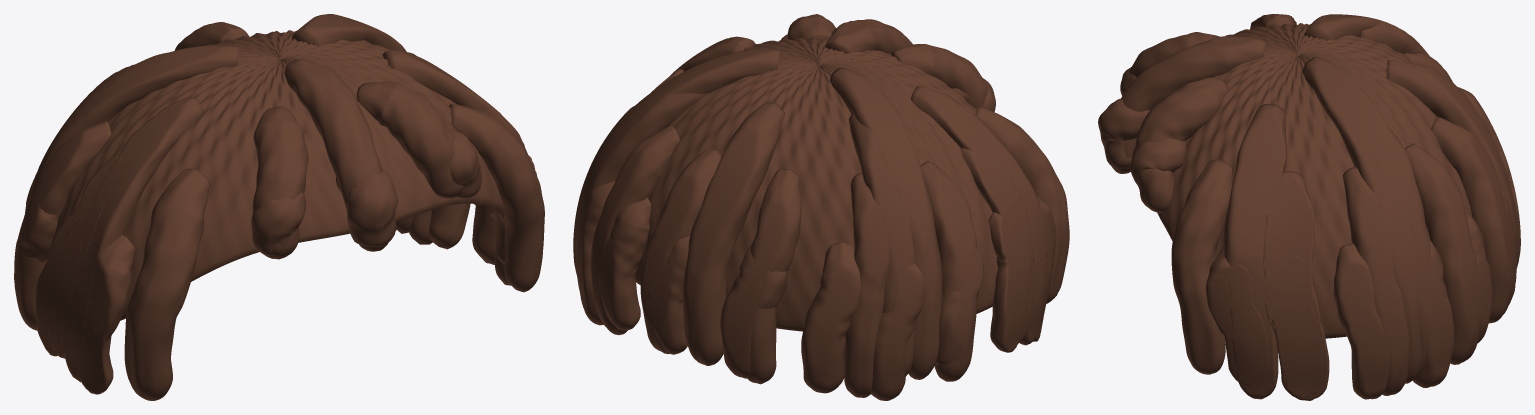
The model's file is Masculine-locs-pashmina260-hair.glb.
The picture shows the model from 3 angles, left to right: view 1: azimuth 30°, elevation 25°; view 2: azimuth 150°, elevation 25°; view 3: azimuth 270°, elevation 25°; orthographic projection. The views are drawn at different scales.
Visible parts, largest first — view 1: 226 hair / Hair260 / mature compact locs; view 2: 226 hair / Hair260 / mature compact locs; view 3: 226 hair / Hair260 / mature compact locs.
Boxes of the visible parts, x1,y1,x2,y2 form: 226 hair / Hair260 / mature compact locs: (14,14,544,400); 226 hair / Hair260 / mature compact locs: (573,14,1069,400); 226 hair / Hair260 / mature compact locs: (1098,14,1520,400).
Bounding box in the file's own units: 1.07 × 0.6521 × 0.9242.
